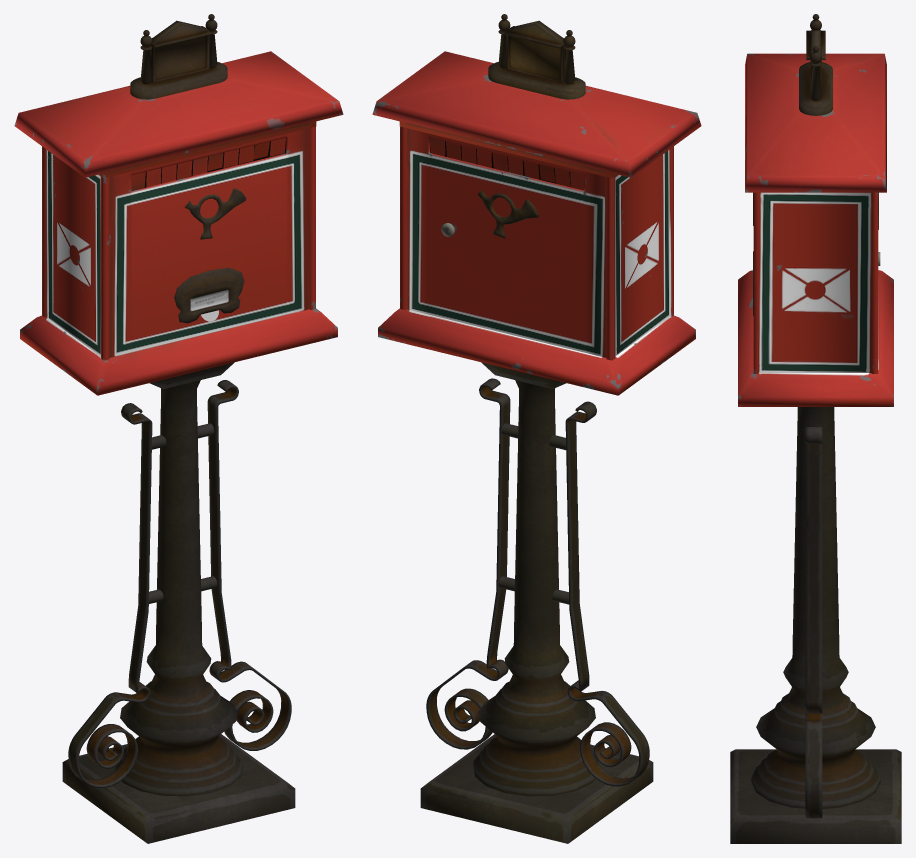
The model's file is mailbox.glb.
3 renders of one model, left to right at view 1: azimuth 30°, elevation 25°; view 2: azimuth 150°, elevation 25°; view 3: azimuth 270°, elevation 25°, orthographic.
Parts seen in each view (by area): view 1: body_LP, leg_LP, top_LP, leg_decor_LP, bottom_LP, stand_LP, top_ornament_LP, decor_front_LP, flaps_front_LP, logo_front_LP, leg_decor_cilinder_LP, leg_top_LP; view 2: body_LP, leg_LP, top_LP, leg_decor_LP, bottom_LP, stand_LP, top_ornament_LP, flaps_back_LP, logo_back_LP, leg_decor_cilinder_LP, leg_top_LP; view 3: body_LP, leg_LP, top_LP, stand_LP, bottom_LP, leg_decor_LP, top_ornament_LP.
Part boxes in pixels (<box>): body_LP: <box>42,126,315,360</box>; leg_LP: <box>115,380,242,796</box>; top_LP: <box>14,51,343,178</box>; leg_decor_LP: <box>68,380,291,788</box>; bottom_LP: <box>20,308,337,395</box>; stand_LP: <box>62,734,295,843</box>; top_ornament_LP: <box>130,14,227,99</box>; decor_front_LP: <box>174,268,244,323</box>; flaps_front_LP: <box>131,137,285,190</box>; logo_front_LP: <box>184,188,246,239</box>; leg_decor_cilinder_LP: <box>149,423,217,603</box>; leg_top_LP: <box>149,362,234,389</box>; body_LP: <box>400,126,673,360</box>; leg_LP: <box>473,380,600,796</box>; top_LP: <box>372,51,701,178</box>; leg_decor_LP: <box>426,378,649,786</box>; bottom_LP: <box>378,308,695,395</box>; stand_LP: <box>420,734,653,843</box>; top_ornament_LP: <box>488,14,585,99</box>; flaps_back_LP: <box>430,138,584,190</box>; logo_back_LP: <box>477,190,538,238</box>; leg_decor_cilinder_LP: <box>498,423,569,604</box>; leg_top_LP: <box>481,362,566,389</box>; body_LP: <box>753,192,878,373</box>; leg_LP: <box>751,407,880,808</box>; top_LP: <box>745,53,886,192</box>; stand_LP: <box>730,749,901,843</box>; bottom_LP: <box>738,270,893,406</box>; leg_decor_LP: <box>805,427,822,818</box>; top_ornament_LP: <box>799,14,832,115</box>.
Size of the model in its own units: 0.4925 by 1.41 by 0.2809.
Materials: 1 (1 with a texture image).
